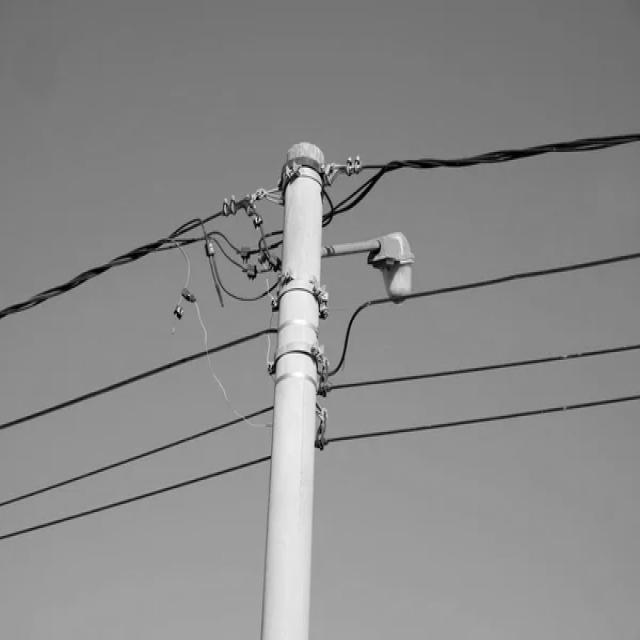Pole: (262, 142, 326, 640)
